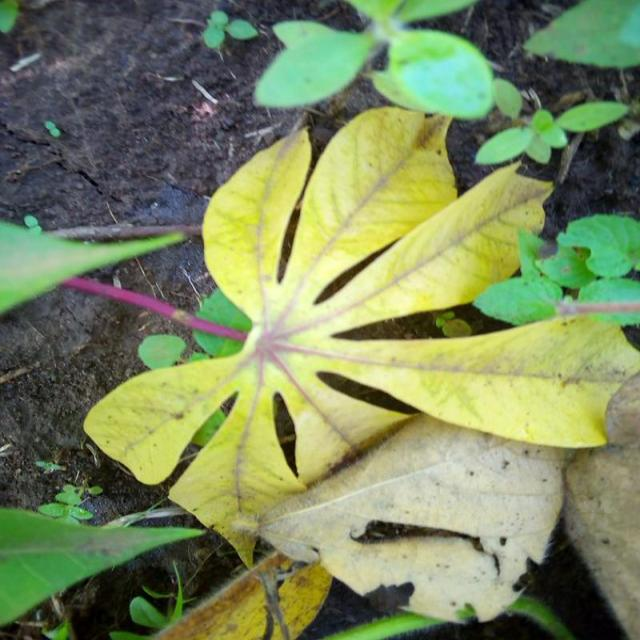Mosaico: (151, 136, 587, 553)
